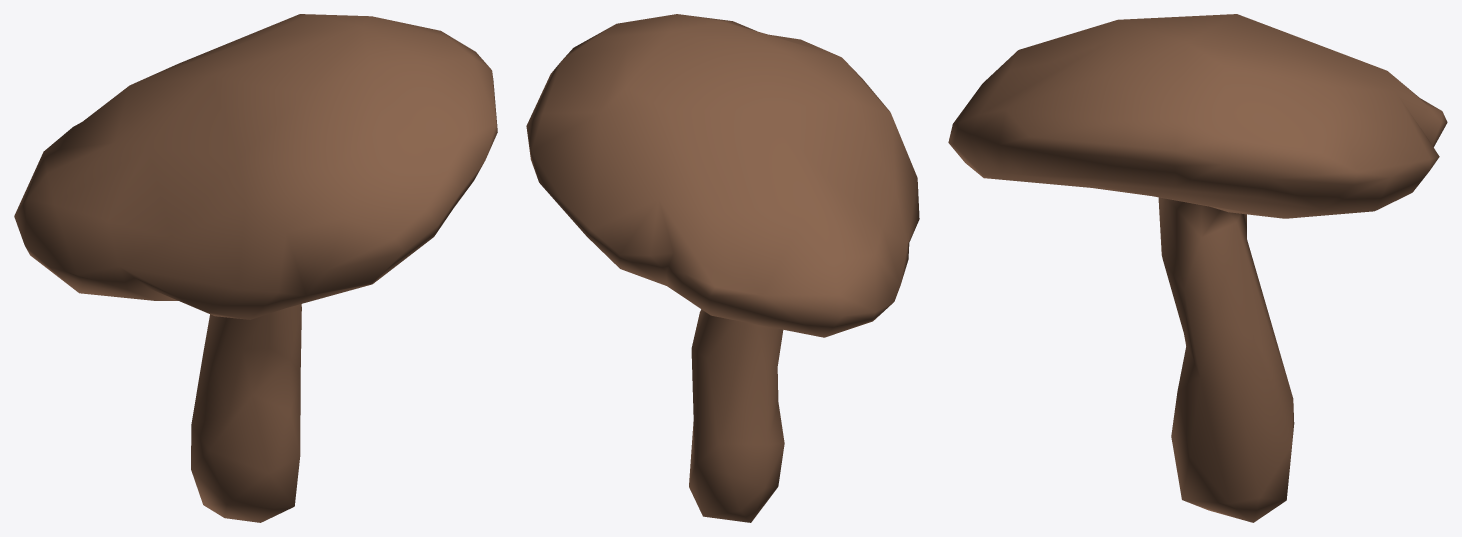
The model's file is Scatter_Mushroom_01_SM.fbx.
The picture shows the model from 3 angles, left to right: view 1: azimuth 30°, elevation 25°; view 2: azimuth 150°, elevation 25°; view 3: azimuth 270°, elevation 25°; orthographic projection. The views are drawn at different scales.
Parts seen in each view (by area): view 1: Scatter_Mushroom_01_SM; view 2: Scatter_Mushroom_01_SM; view 3: Scatter_Mushroom_01_SM.
Part boxes in pixels (x1,y1,x2,y2): Scatter_Mushroom_01_SM: [14, 14, 497, 522]; Scatter_Mushroom_01_SM: [526, 14, 919, 522]; Scatter_Mushroom_01_SM: [948, 14, 1447, 522].
Size of the model in its own units: 2788 by 3287 by 2885.
